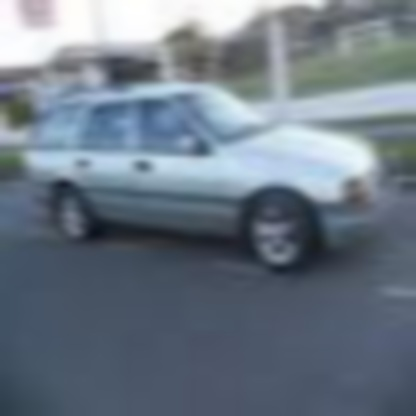Vehicle: (31, 83, 393, 286)
